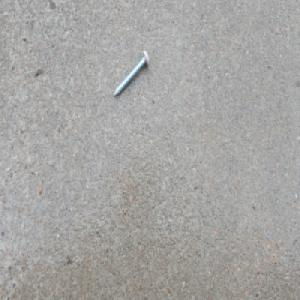Nail: (114, 49, 151, 100)
